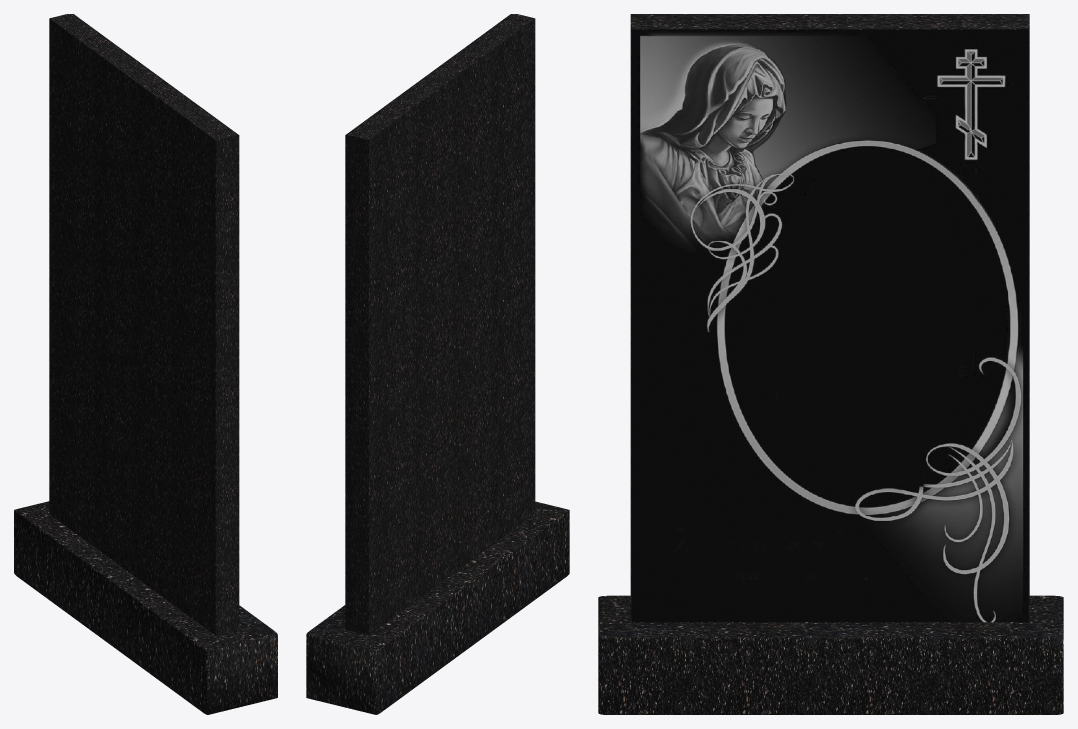
Rendered from Фон 60 [granite_1_orthodox] (100).glb.
The picture shows the model from 3 angles, left to right: view 1: azimuth 30°, elevation 25°; view 2: azimuth 150°, elevation 25°; view 3: azimuth 270°, elevation 25°; orthographic projection. The views are drawn at different scales.
Parts seen in each view (by area): view 1: Cube.005, Куб.005; view 2: Cube.005, Куб.005; view 3: Cube.005, Куб.005.
Part boxes in pixels (x1=…): Cube.005: x1=49, y1=14, x2=239, y2=635; Куб.005: x1=14, y1=501, x2=277, y2=714; Cube.005: x1=345, y1=14, x2=535, y2=635; Куб.005: x1=306, y1=501, x2=569, y2=714; Cube.005: x1=630, y1=14, x2=1029, y2=622; Куб.005: x1=598, y1=595, x2=1063, y2=714.
Size of the model in its own units: 0.15 by 1.12 by 0.7.
2 materials, 2 textured.
